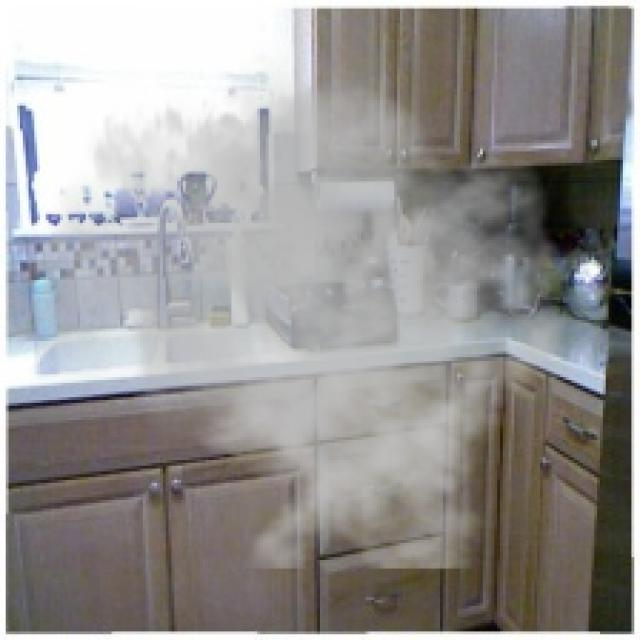Smoke: (29, 34, 592, 569)
